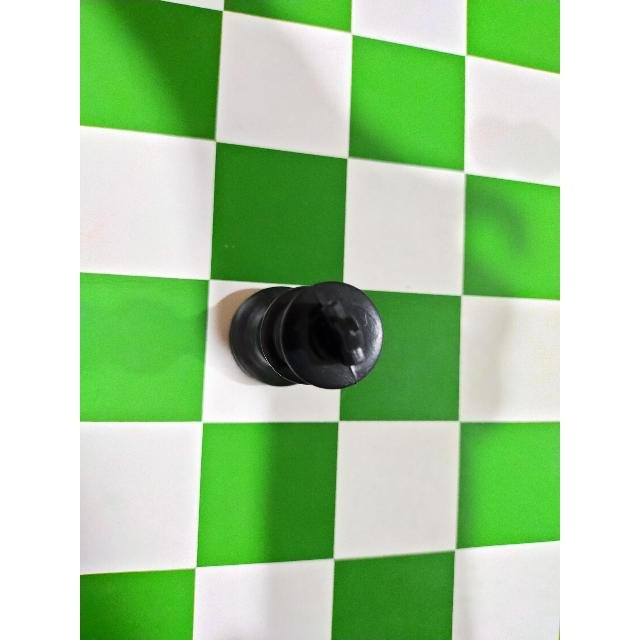black-king: (226, 269, 392, 397)
